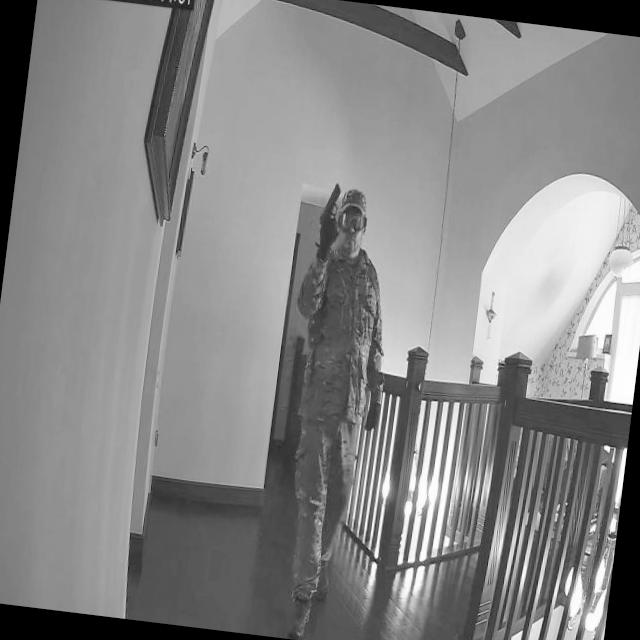gun: (317, 179, 344, 244)
person with a gun: (264, 184, 410, 640)
